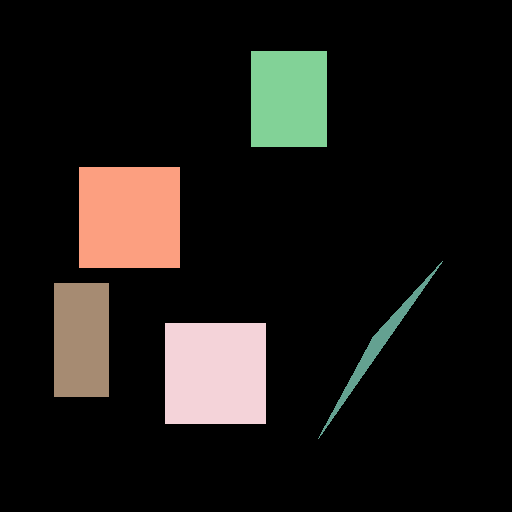rectangle: (251, 51, 326, 146), (54, 283, 108, 396)
square: (165, 323, 265, 423), (79, 167, 179, 267)
triangle: (318, 261, 442, 438)
